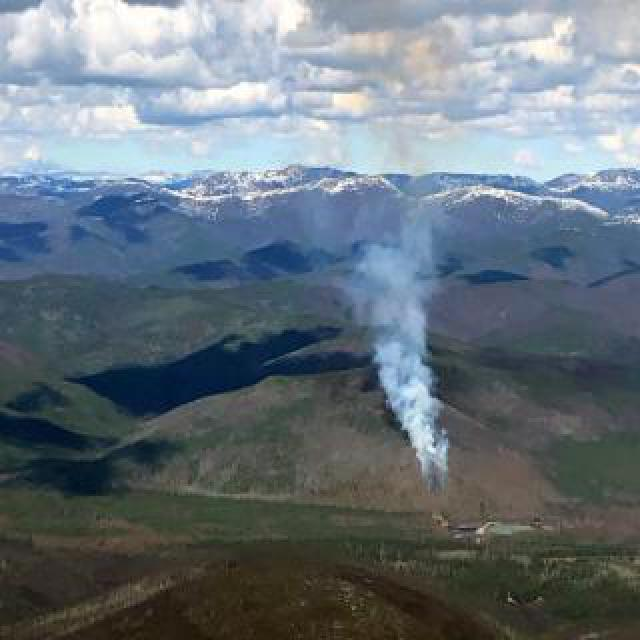Smoke: (372, 202, 454, 484)
